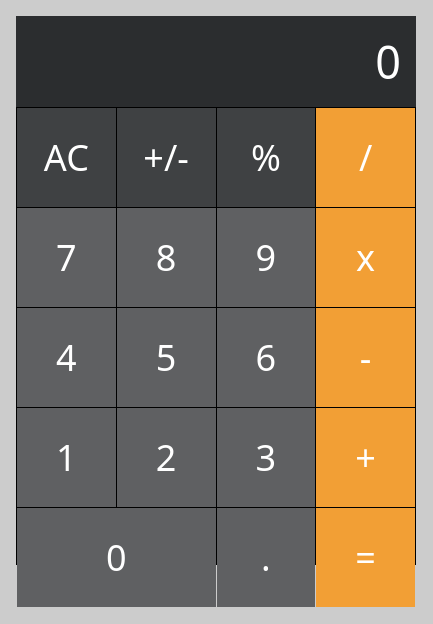
adds 4 and 5 together
This screenshot has width=433, height=624.
Click the button with test id "number-4".
click(66, 358)  # box [17,308,116,407]
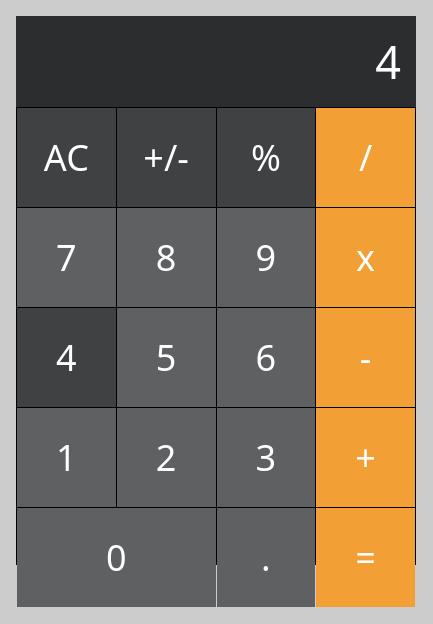
Click the button with test id "operator-+".
click(366, 458)  # box [316,408,415,507]
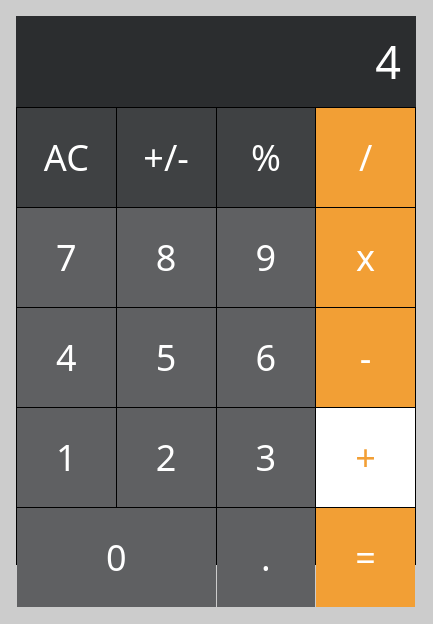
Click the button with test id "number-5".
click(166, 358)  # box [117,308,216,407]
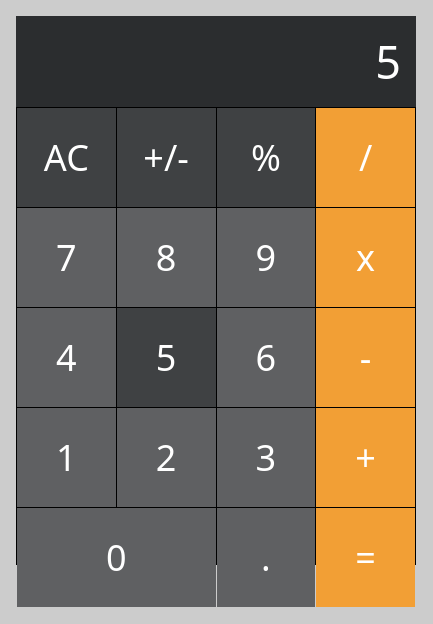
Click the button with test id "operator-=".
click(366, 558)  # box [316,508,415,607]
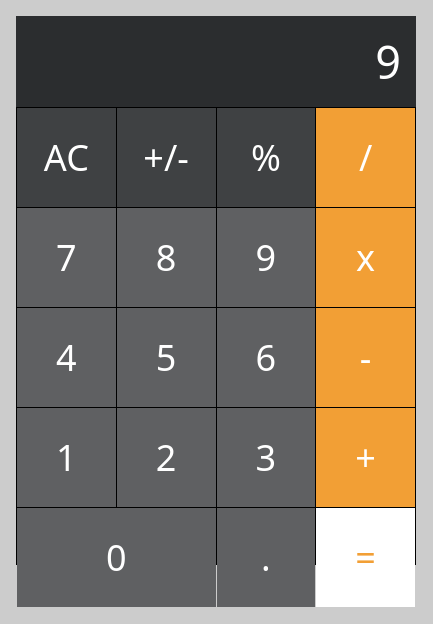
Expected: the text with test id "total" reads "9", [375,31,401,92]
